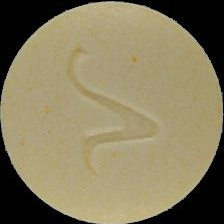43353-681: (0, 0, 224, 224)
